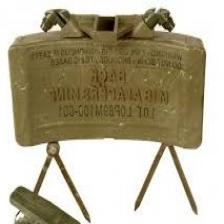MOH-50: (9, 5, 206, 170)
